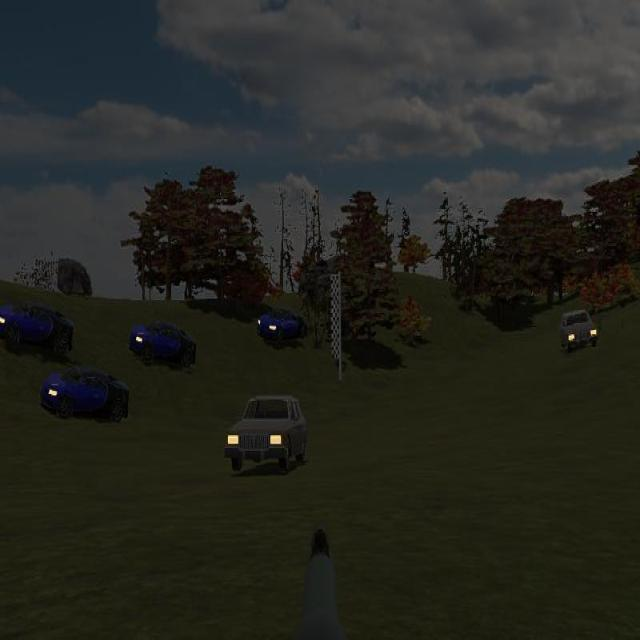car: (224, 393, 308, 475), (40, 364, 130, 425), (0, 300, 75, 358), (128, 320, 197, 371), (257, 307, 307, 344), (560, 307, 598, 353)
